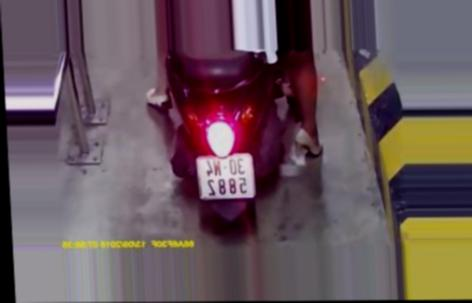License_Plate: (189, 149, 261, 203)
